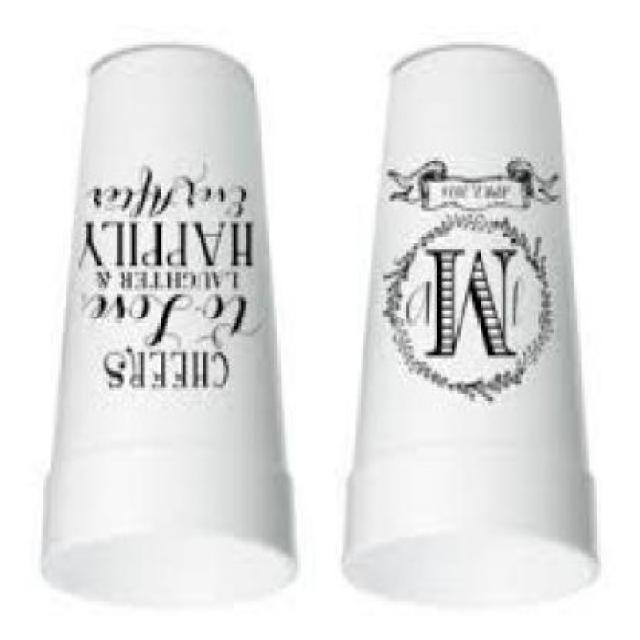PAPER: (46, 50, 300, 608), (348, 51, 600, 602)
